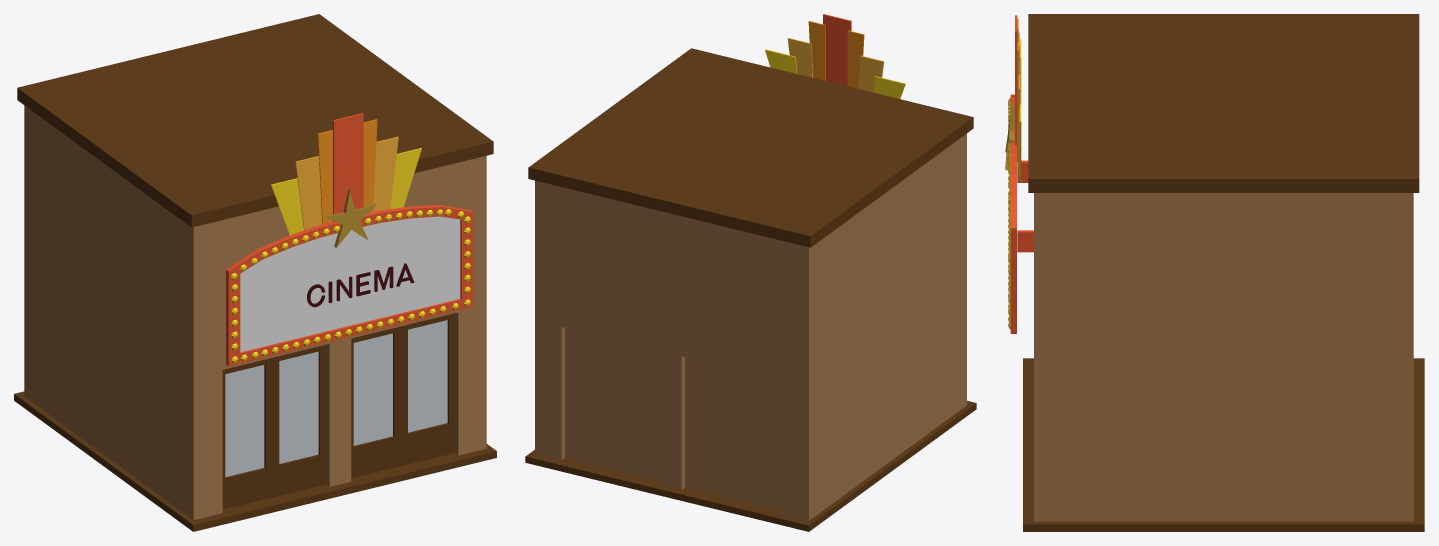
The model's file is cinema.fbx.
3 views of the same model, side by side, from view 1: azimuth 30°, elevation 25°; view 2: azimuth 150°, elevation 25°; view 3: azimuth 270°, elevation 25° (orthographic). The views are drawn at different scales.
Visible parts, largest first — view 1: Cube.110; view 2: Cube.110; view 3: Cube.110.
Part boxes in pixels (x1,y1,x2,y2): Cube.110: (14, 14, 496, 531); Cube.110: (525, 14, 976, 531); Cube.110: (1005, 14, 1424, 531).
Bounding box in the file's own units: 220 × 263 × 235.
